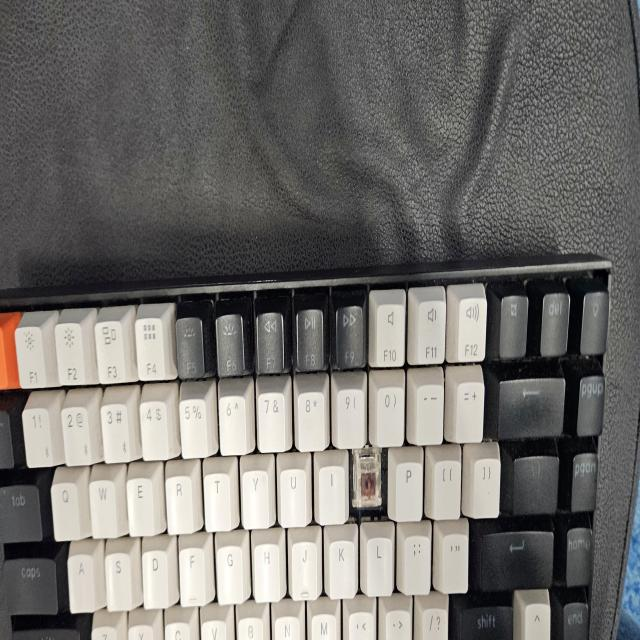C: (357, 454, 381, 510)
